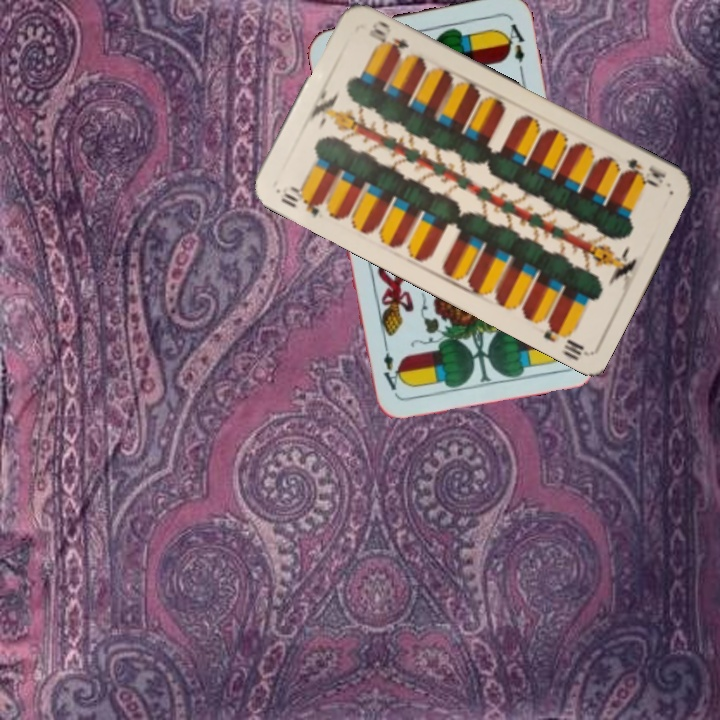E10: (614, 154, 669, 190), (276, 182, 326, 221)
